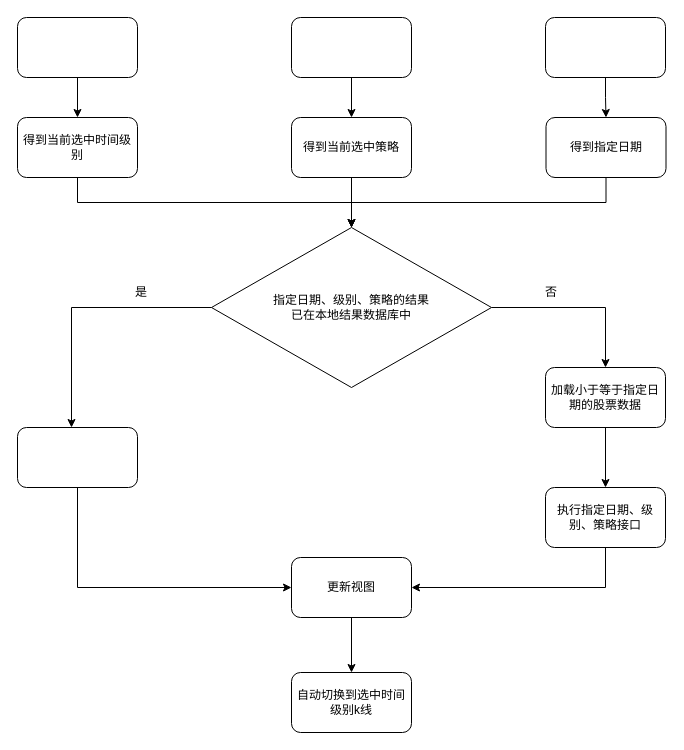
The diagram is 684 pixels wide and 750 high, and some of its shapes have lost their labels. Here are the shapes that lost their labels. From the top down, the centre of each, then its label:
At point (77, 47): "点击策略按钮".
At point (351, 47): "切换时间级别".
At point (605, 47): "输入指定日期".
At point (77, 457): "加载指定日期、级别、策略结果".
